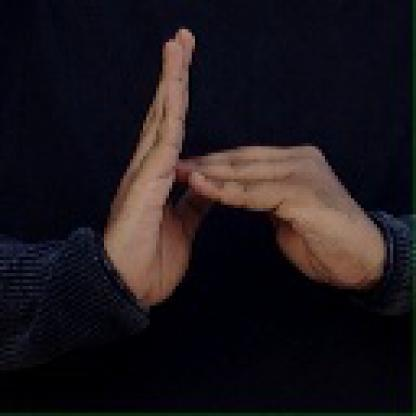Z: (110, 13, 354, 300)
